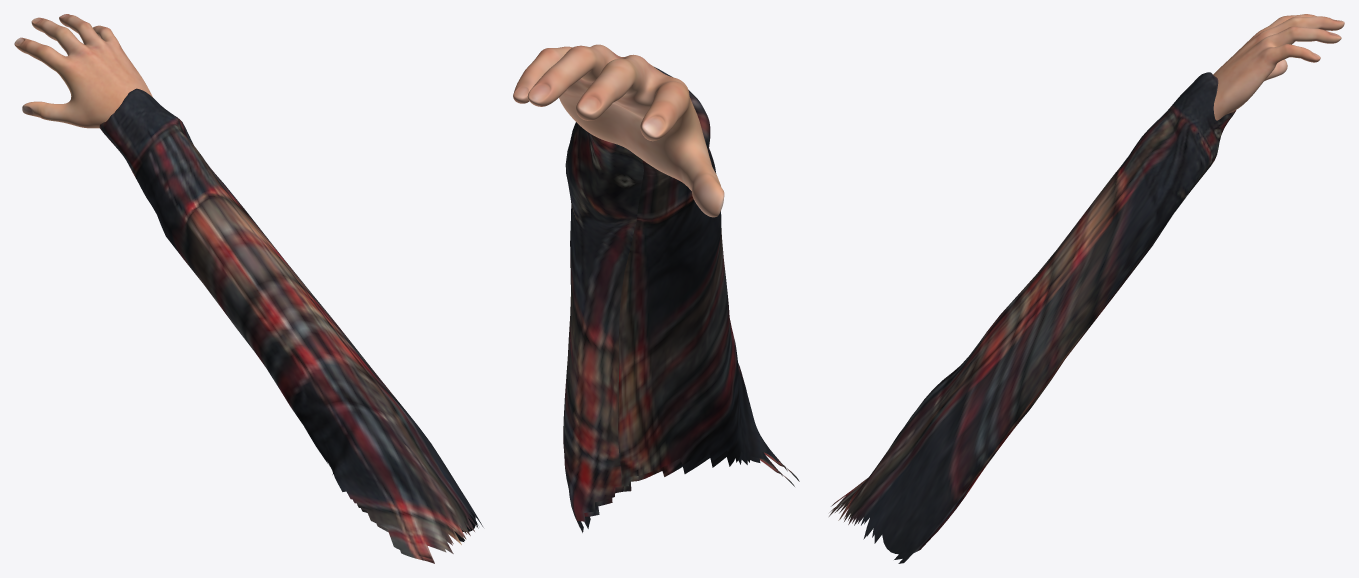
Rendered from first-person-hand.glb.
3 renders of one model, left to right at view 1: azimuth 30°, elevation 25°; view 2: azimuth 150°, elevation 25°; view 3: azimuth 270°, elevation 25°, orthographic. The views are drawn at different scales.
Visible parts, largest first — view 1: First person tailored cuff, First person skin; view 2: First person tailored cuff, First person skin; view 3: First person tailored cuff, First person skin.
Part boxes in pixels (bbox=[...]): First person tailored cuff: bbox=[99, 88, 483, 563]; First person skin: bbox=[14, 14, 152, 128]; First person tailored cuff: bbox=[563, 67, 799, 532]; First person skin: bbox=[513, 44, 724, 217]; First person tailored cuff: bbox=[829, 72, 1236, 563]; First person skin: bbox=[1213, 14, 1344, 120].
Bounding box in the file's own units: 0.294 × 0.4604 × 0.4879.
Materials: 2 (2 with a texture image).
